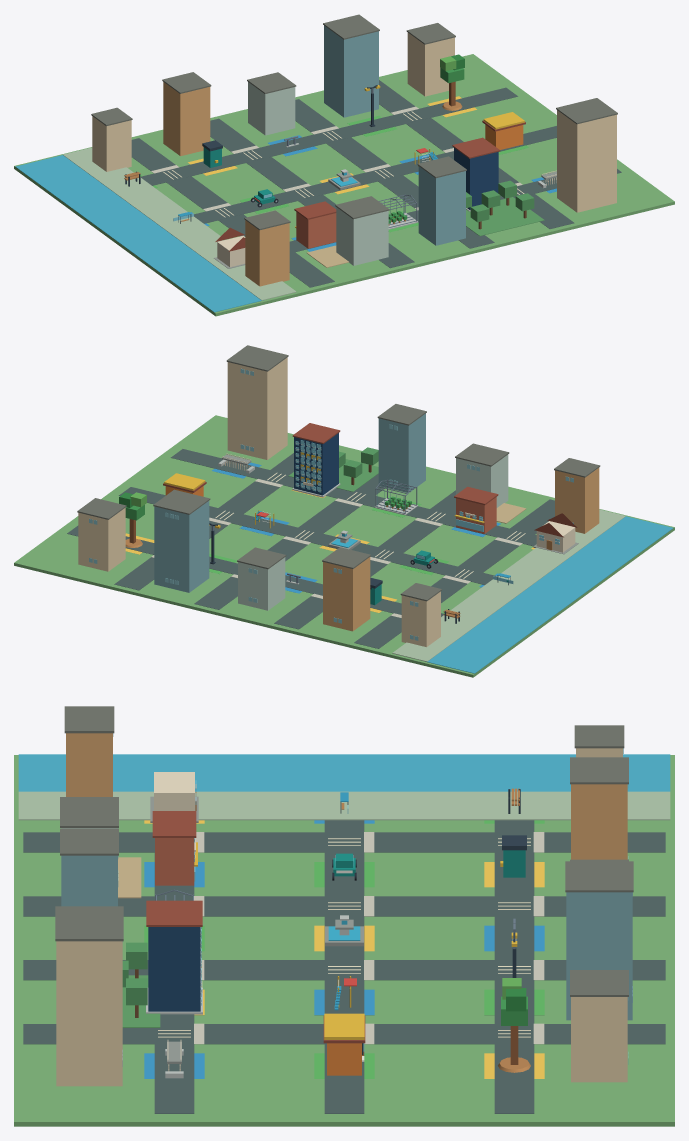
File: greenbay.glb
3 views of the same model, one above another, from view 1: azimuth 30°, elevation 25°; view 2: azimuth 150°, elevation 25°; view 3: azimuth 270°, elevation 25° (orthographic). The views are drawn at different scales.
Visible parts, largest first — view 1: city-island, background-building (×9), avenue (×4), bay-water, cross-street (×3), roof-cap (×9), waterfront-walk, building (×2), park-lawn, roof (×2), kiosk, house (+1 smaller); view 2: city-island, background-building (×9), avenue (×4), bay-water, cross-street (×3), roof-cap (×8), waterfront-walk, building (×2), house, park-lawn, roof; view 3: city-island, background-building (×6), avenue (×4), cross-street (×3), bay-water, roof-cap (×9), waterfront-walk, building (×2), roof (×2), house, kiosk, harbor-plaza (+2 smaller).
Boxes of the visible parts, bbox=[...] form: city-island: bbox=[14, 54, 674, 316]; background-building (×9): bbox=[92, 25, 616, 286]; avenue (×4): bbox=[131, 80, 574, 287]; bay-water: bbox=[15, 155, 263, 312]; cross-street (×3): bbox=[140, 87, 621, 253]; roof-cap (×9): bbox=[91, 14, 617, 230]; waterfront-walk: bbox=[63, 147, 296, 300]; building (×2): bbox=[296, 148, 498, 248]; park-lawn: bbox=[466, 197, 544, 236]; roof (×2): bbox=[294, 137, 500, 219]; kiosk: bbox=[485, 125, 523, 149]; house: bbox=[217, 235, 245, 267]; city-island: bbox=[14, 415, 674, 677]; background-building (×9): bbox=[78, 357, 599, 647]; avenue (×4): bbox=[114, 453, 554, 648]; bay-water: bbox=[426, 516, 673, 673]; cross-street (×3): bbox=[67, 449, 536, 616]; roof-cap (×8): bbox=[77, 345, 600, 569]; waterfront-walk: bbox=[392, 509, 625, 661]; building (×2): bbox=[294, 433, 496, 533]; house: bbox=[536, 521, 575, 552]; park-lawn: bbox=[288, 459, 378, 491]; roof: bbox=[292, 423, 340, 443]; city-island: bbox=[14, 755, 674, 1126]; background-building (×6): bbox=[56, 733, 632, 1086]; avenue (×4): bbox=[23, 832, 665, 1044]; cross-street (×3): bbox=[154, 820, 534, 1113]; bay-water: bbox=[18, 754, 670, 791]; roof-cap (×9): bbox=[55, 706, 633, 1039]; waterfront-walk: bbox=[18, 791, 670, 820]; building (×2): bbox=[148, 838, 200, 1011]; roof (×2): bbox=[146, 811, 202, 926]; house: bbox=[154, 772, 194, 810]; kiosk: bbox=[327, 1043, 361, 1075]; harbor-plaza: bbox=[118, 857, 141, 898].
Bounding box in the file's own units: 92 × 17.79 × 70.
